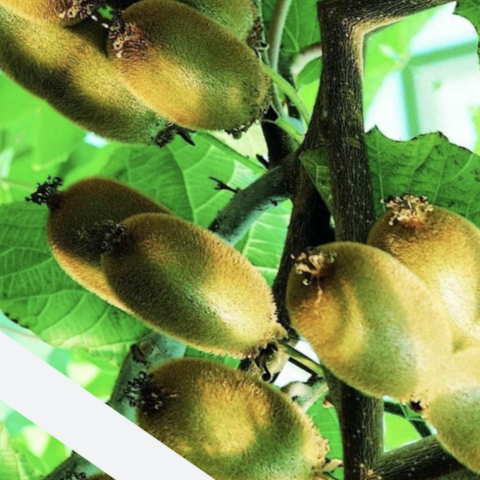kiwi: (63, 166, 324, 410), (239, 212, 480, 447), (80, 294, 361, 480), (81, 0, 301, 173)
